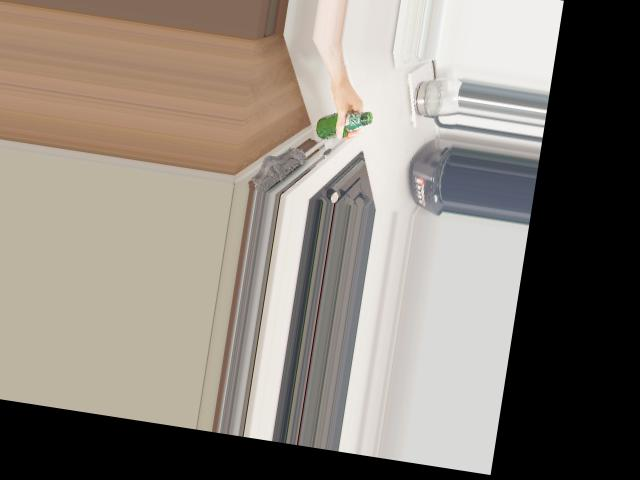beer: (313, 103, 372, 145)
